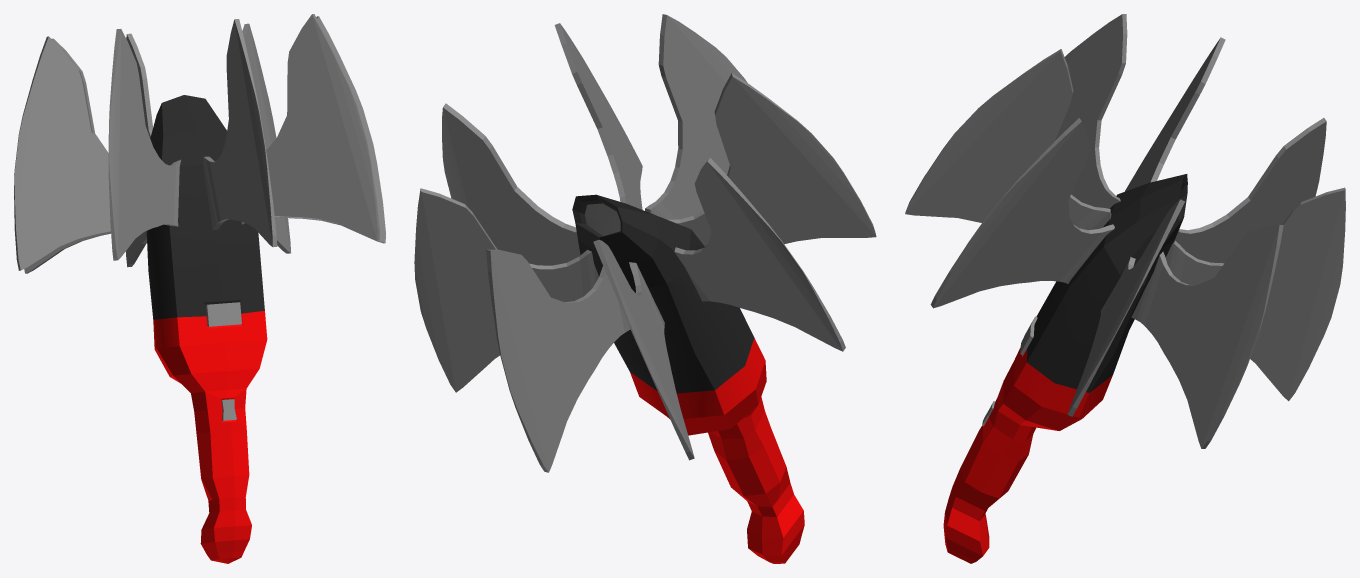
File: VacuumMace.fbx
The picture shows the model from 3 angles, left to right: view 1: azimuth 30°, elevation 25°; view 2: azimuth 150°, elevation 25°; view 3: azimuth 270°, elevation 25°; orthographic projection. The views are drawn at different scales.
Visible parts, largest first — view 1: Box001; view 2: Box001; view 3: Box001.
Boxes of the visible parts, box(x1,y1,x2,y2) form: Box001: box(14, 14, 385, 563); Box001: box(414, 14, 876, 563); Box001: box(905, 14, 1345, 563).
Size of the model in its own units: 22.75 by 31.05 by 23.01.
